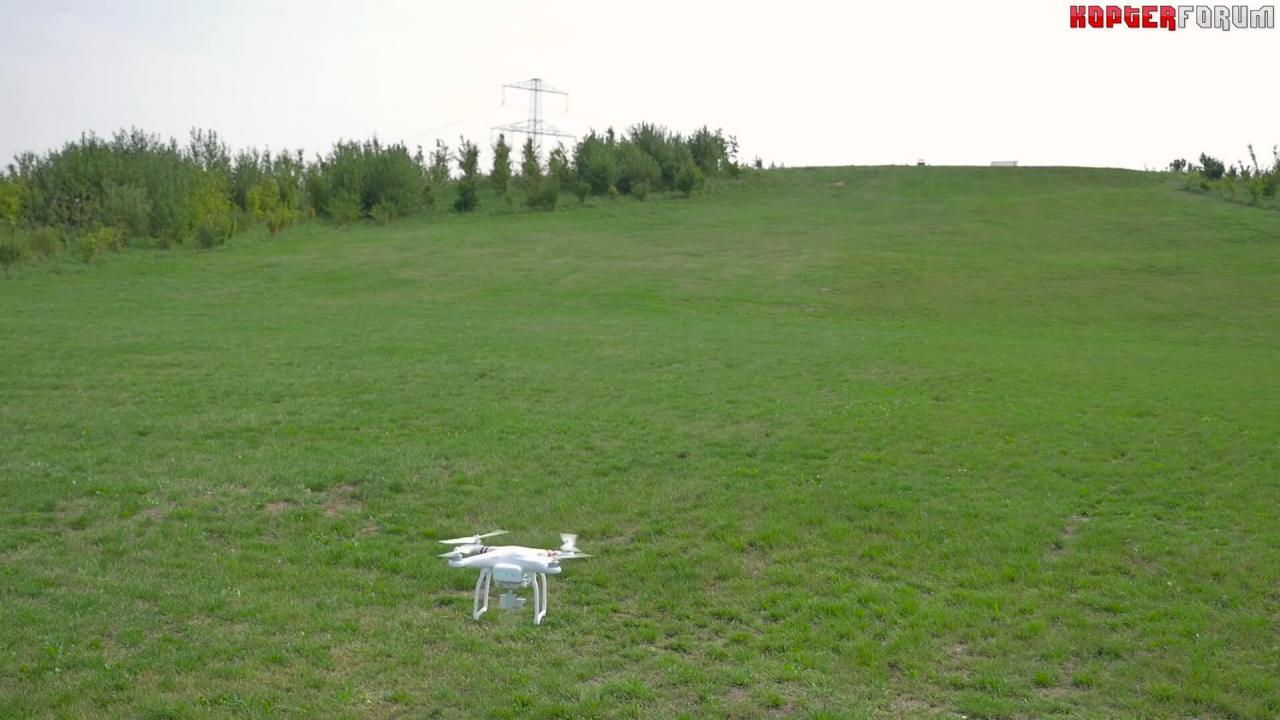Drone: (429, 520, 599, 633)
